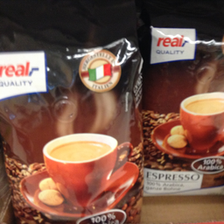coffee: (1, 33, 146, 224), (136, 12, 224, 198)
